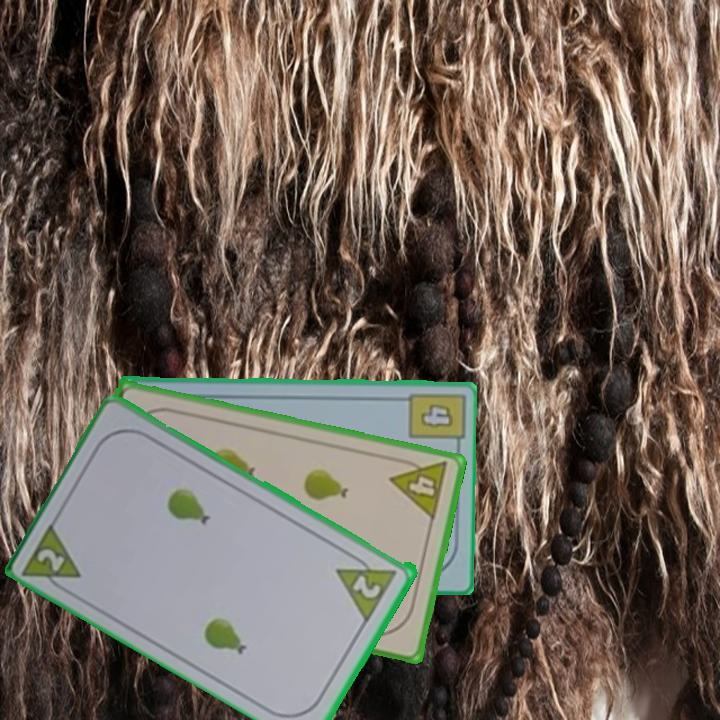2p: (349, 571, 385, 602), (34, 544, 69, 575)
4b: (418, 400, 457, 431)
4p: (386, 453, 451, 523)
